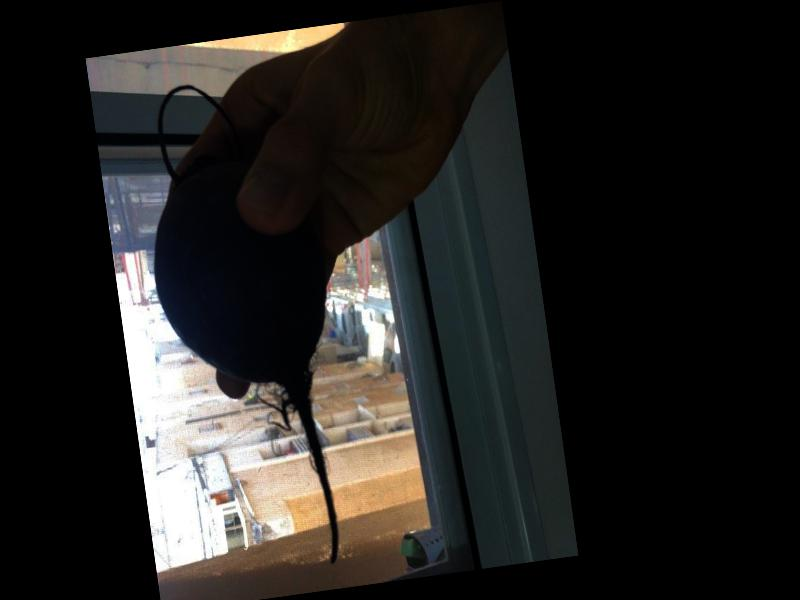Beet: (129, 71, 364, 583)
